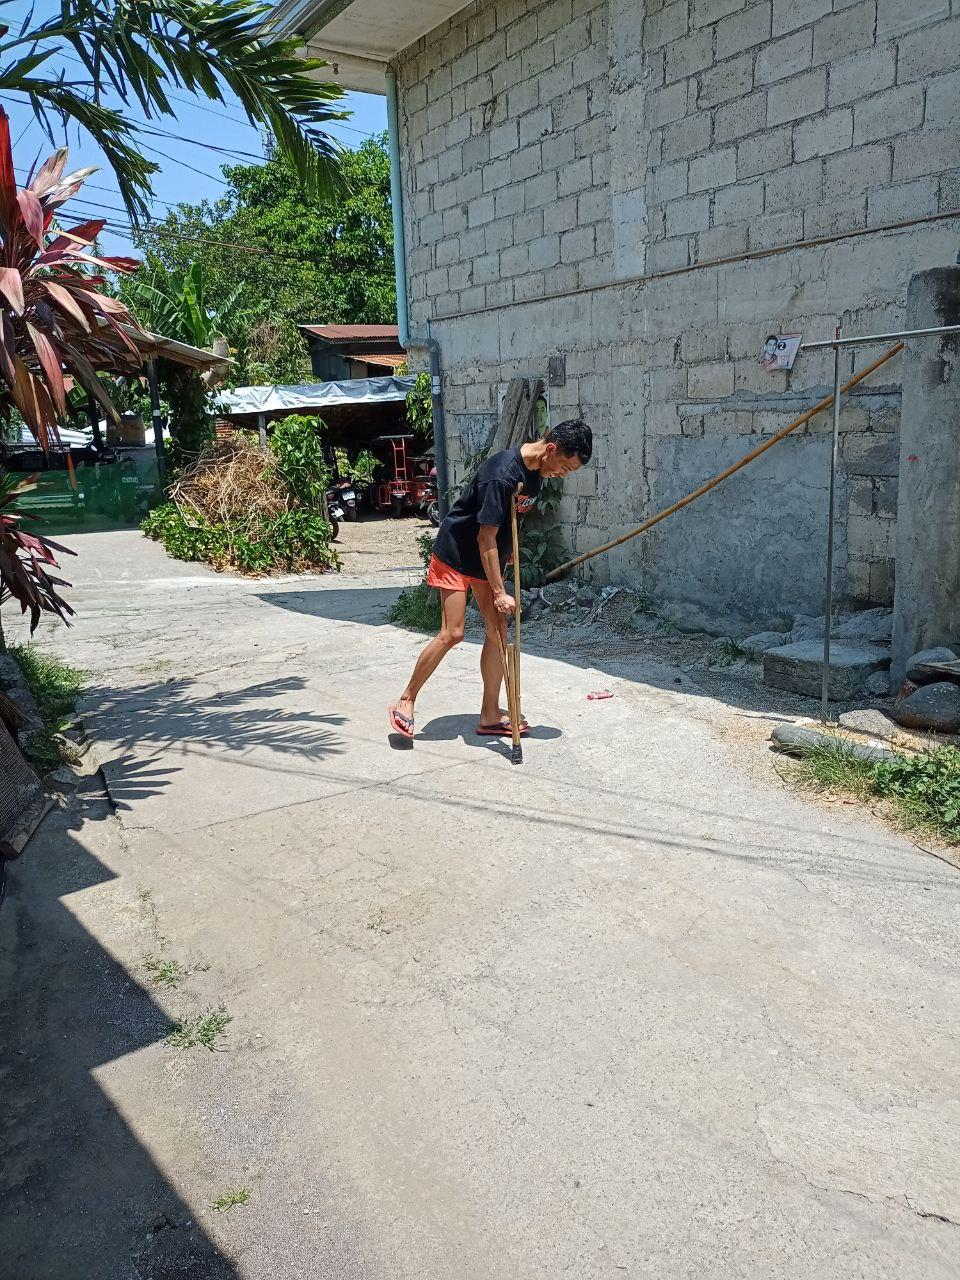crutches: (389, 418, 594, 766)
